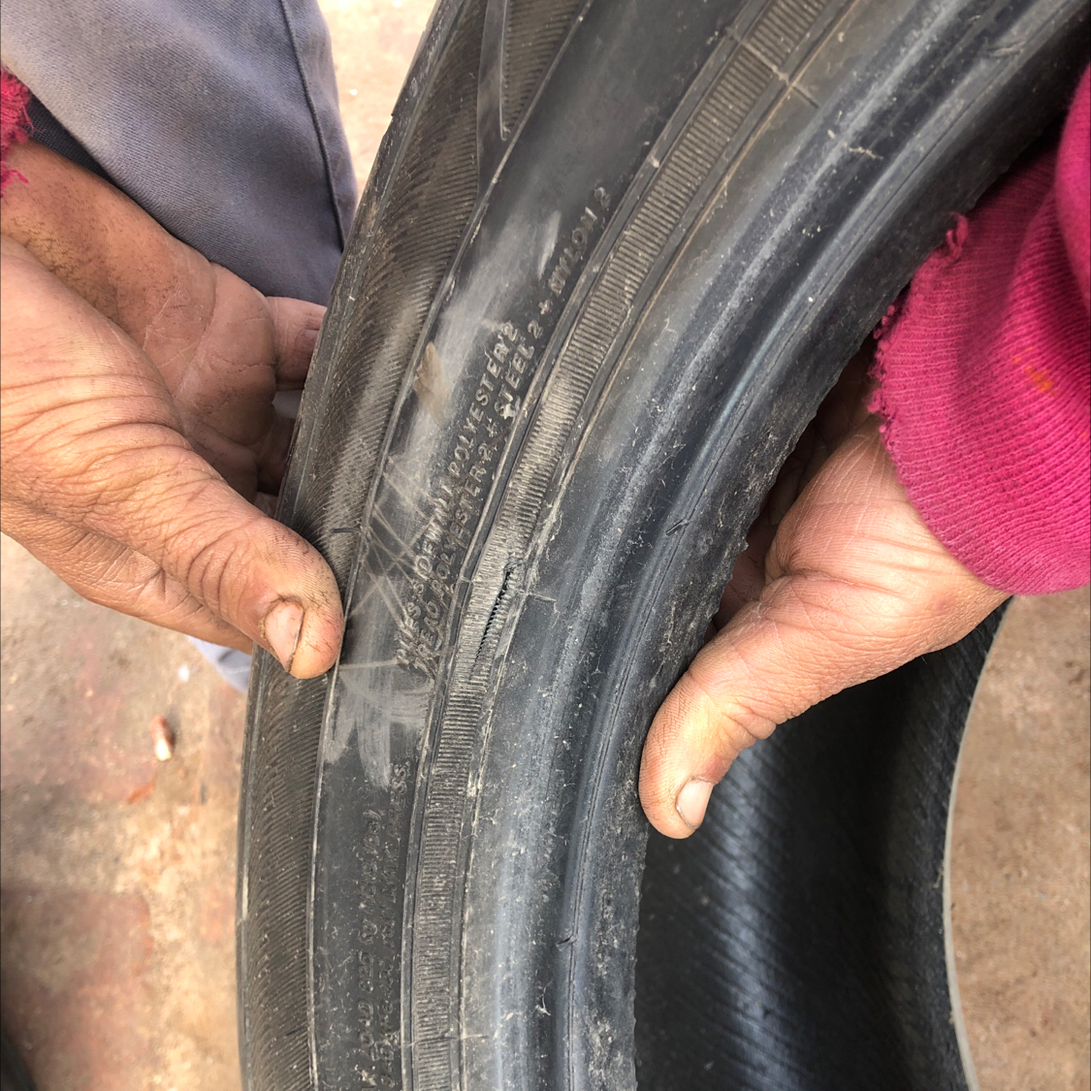cut: (465, 554, 529, 687)
